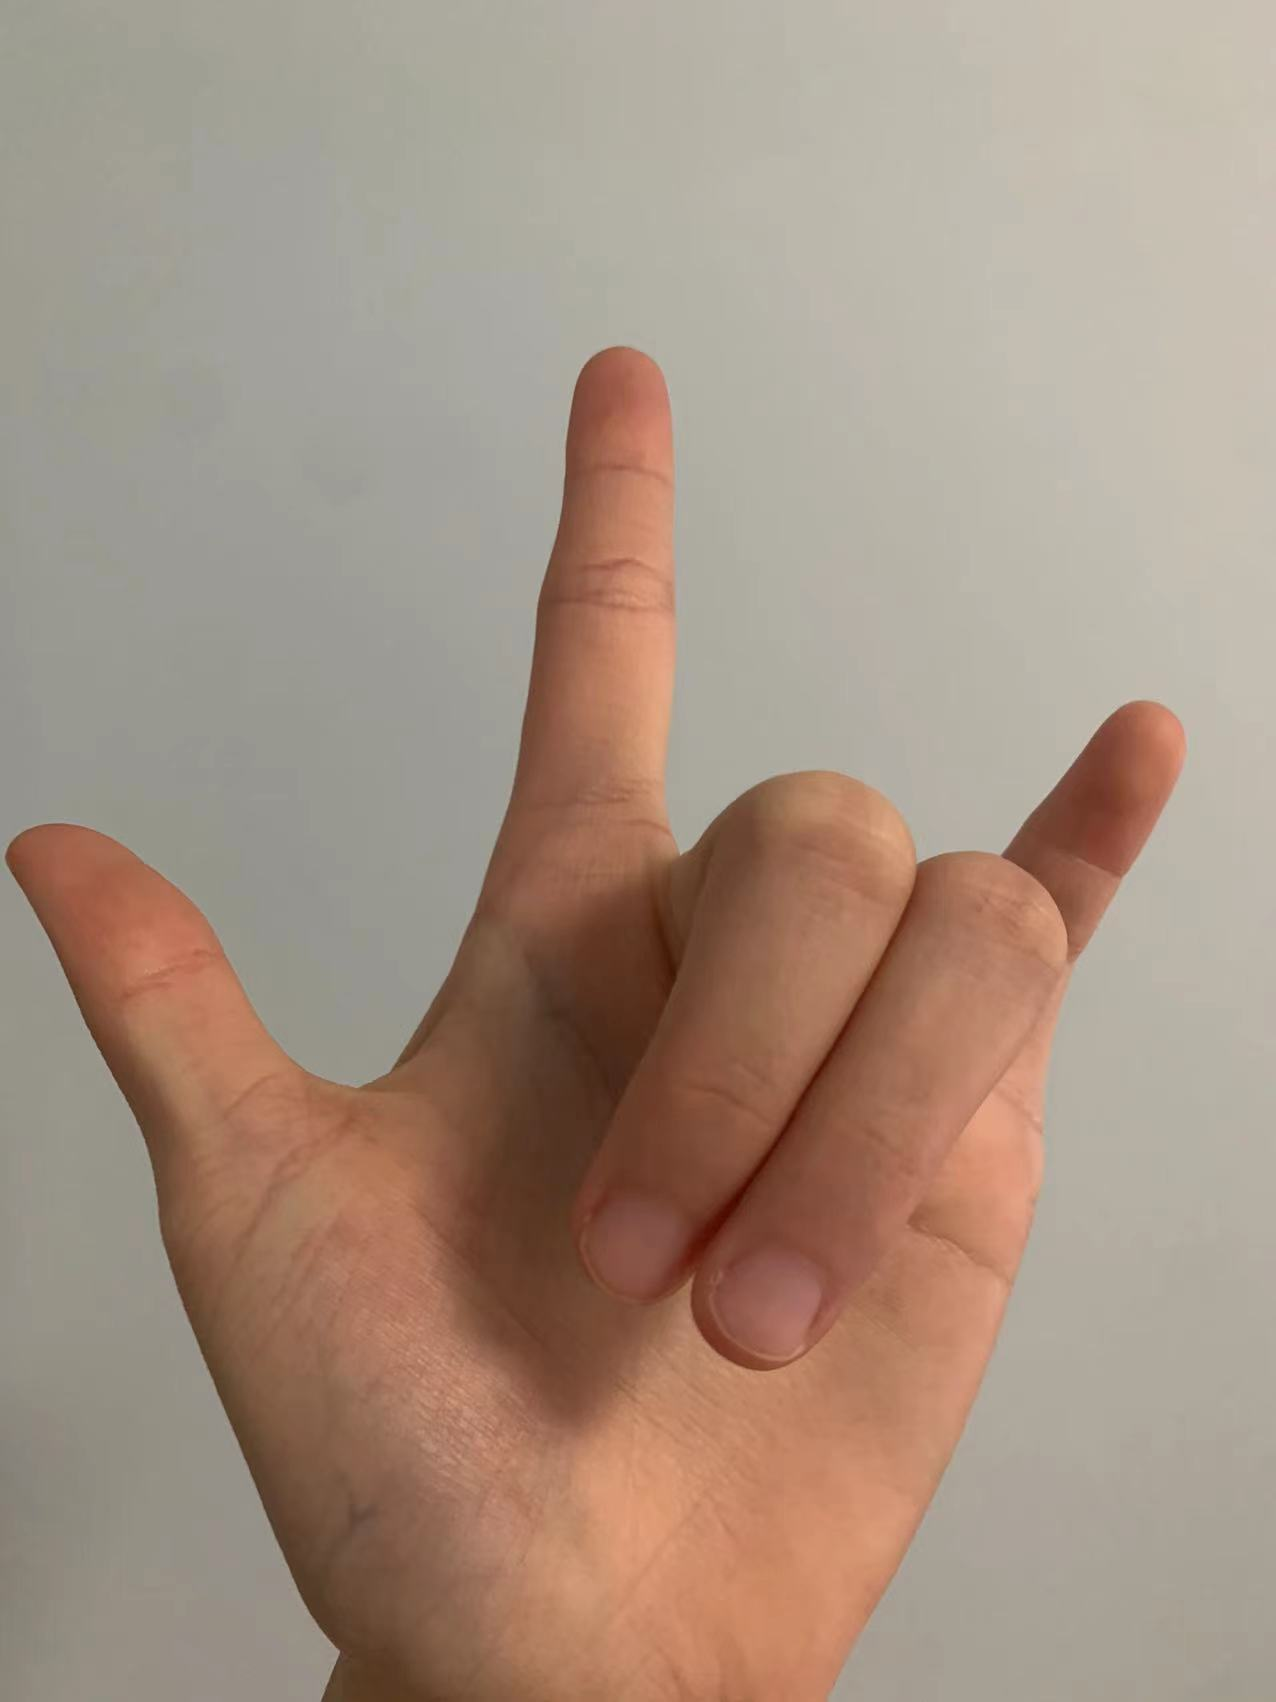back: (16, 334, 1189, 1638)
